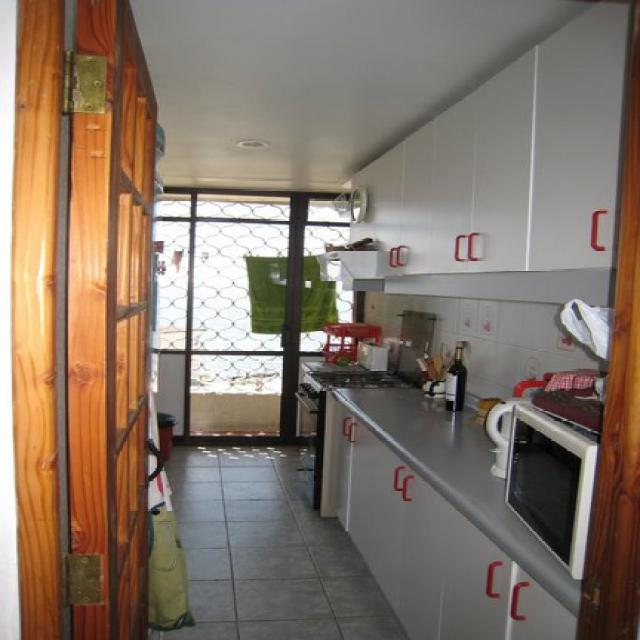2036: (329, 389, 581, 620)
bottle crop: (443, 342, 464, 409)
ceiling beam: (53, 0, 596, 191)
clock crop: (348, 186, 363, 220)
coffee marker: (486, 393, 532, 476)
cupboards: (336, 1, 625, 279), (327, 402, 576, 639)
door bars: (70, 0, 156, 639)
doorframe: (576, 0, 639, 638), (18, 0, 62, 639)
extractor hood: (313, 247, 373, 279)
floor -X: (150, 436, 564, 639)
hinge: (62, 52, 107, 113), (65, 551, 105, 604)
lamp crop: (233, 139, 270, 150)
large window crop: (148, 184, 390, 439)
microwalve occluded: (505, 404, 597, 577)
stove burner: (295, 368, 422, 509)
wall clock: (375, 1, 627, 617)
